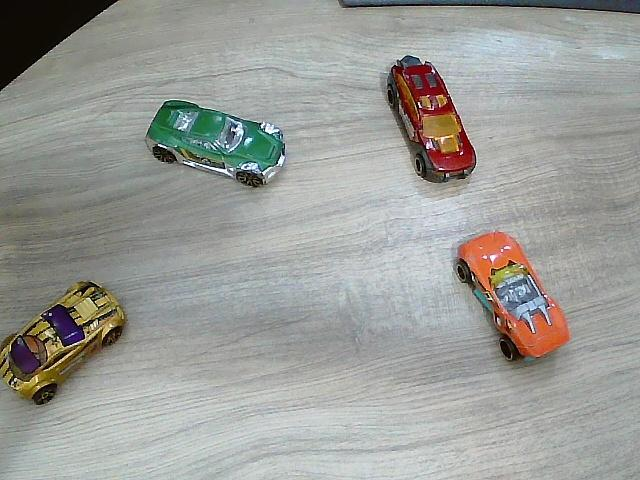Carro: (0, 282, 126, 407), (455, 233, 571, 360), (145, 101, 284, 189), (388, 55, 478, 183)
